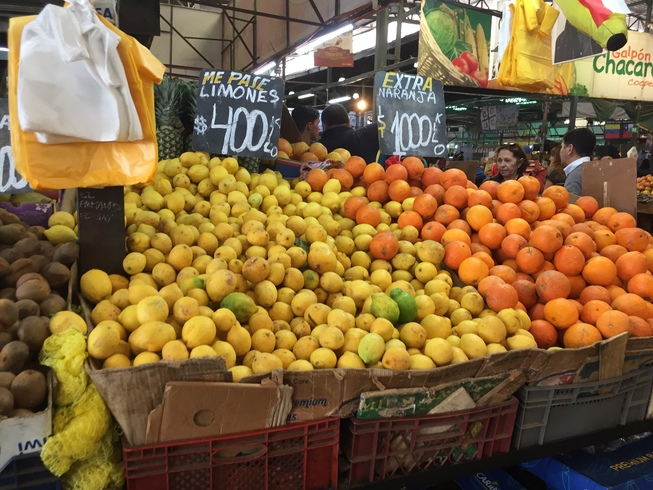precio: (195, 67, 288, 170), (374, 69, 452, 161)
